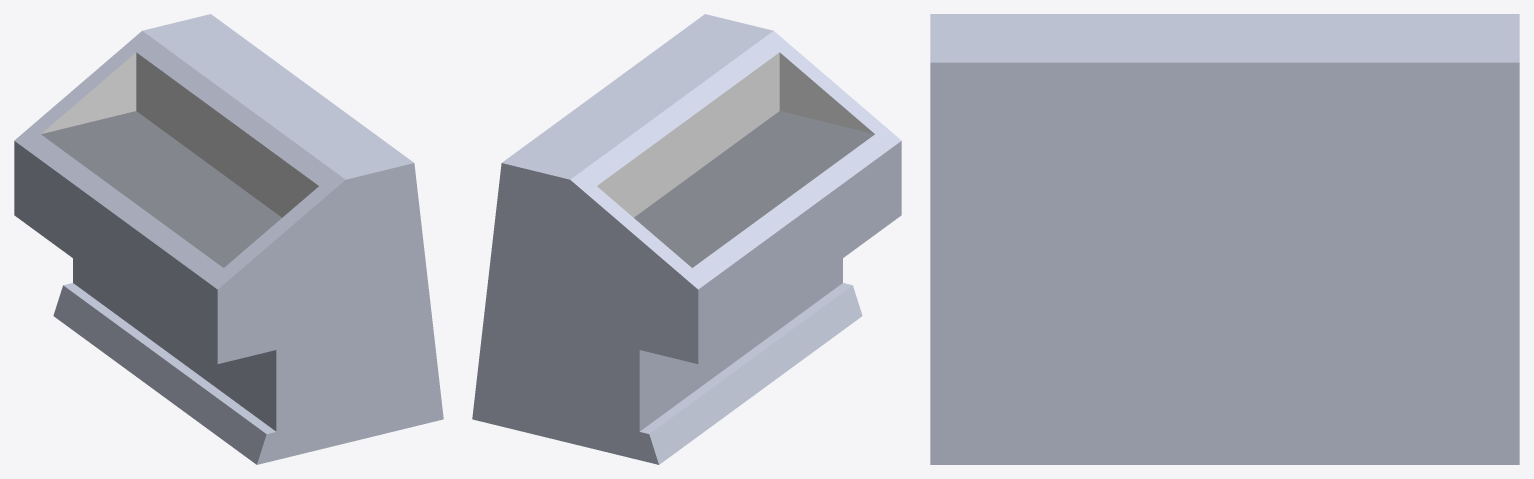
3 renders of one model, left to right at view 1: azimuth 30°, elevation 25°; view 2: azimuth 150°, elevation 25°; view 3: azimuth 270°, elevation 25°, orthographic. The views are drawn at different scales.
Visible parts, largest first — view 1: object_054; view 2: object_054; view 3: object_054.
Boxes of the visible parts, box(x1,y1,x2,y2) form: object_054: box(14, 14, 443, 464); object_054: box(472, 14, 901, 464); object_054: box(930, 14, 1519, 464).
Bounding box in the file's own units: 0.298 × 0.3321 × 0.4648.
